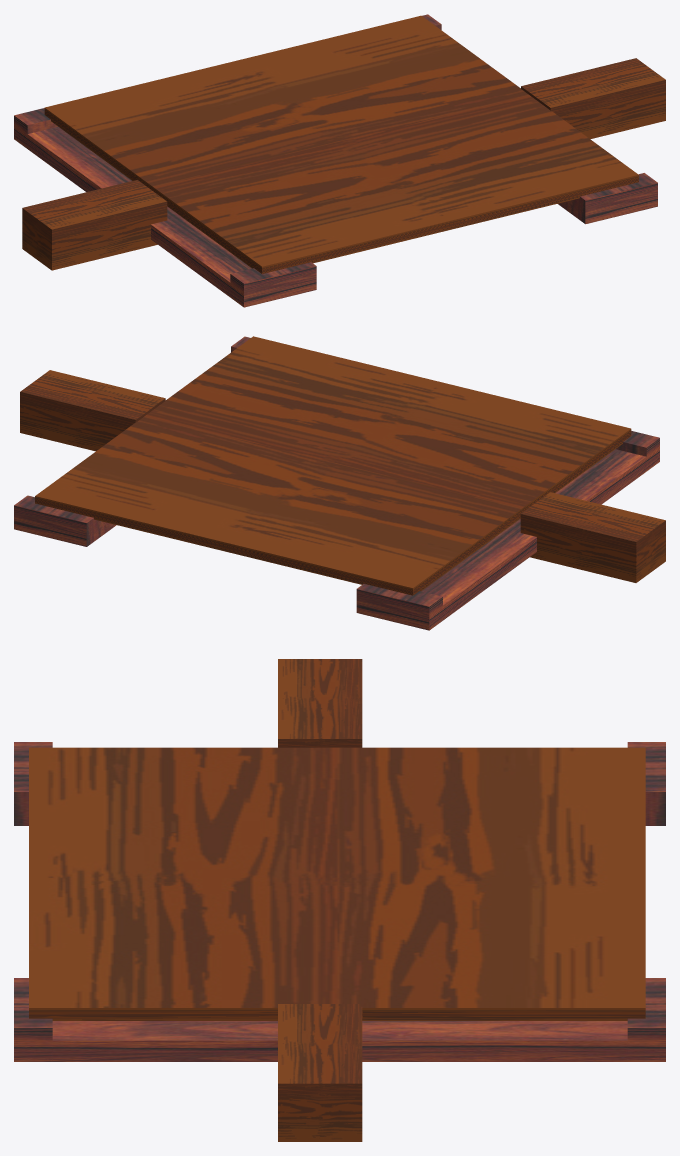
The model's file is sakou.FBX.
3 views of the same model, one above another, from view 1: azimuth 30°, elevation 25°; view 2: azimuth 150°, elevation 25°; view 3: azimuth 270°, elevation 25° (orthographic). The views are drawn at different scales.
Visible parts, largest first — view 1: Box001; view 2: Box001; view 3: Box001.
Boxes of the visible parts, <box> form: Box001: <box>14,14,665,307</box>; Box001: <box>14,336,665,630</box>; Box001: <box>14,659,665,1141</box>.
Bounding box in the file's own units: 1.63 × 0.104 × 1.06.
